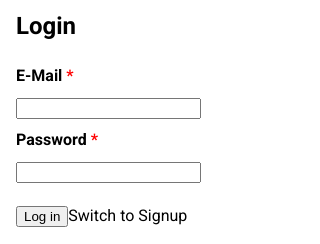
Test: <Authentication /> › Behaviour tests › Authentication flow › toggles between login and signup modes when switch button is clicked
Expected: the button "Log in" is shown, left=16, top=206, right=68, bottom=227
Step 1. Click the link with test id "login-signup-toggle-link" → (128, 215), box left=68, top=206, right=187, bottom=225
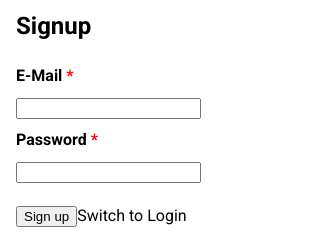
Result: the button "Sign up" is shown at left=16, top=206, right=77, bottom=227
Step 2. Click the link with test id "login-signup-toggle-link" → (132, 215), box left=77, top=206, right=187, bottom=225
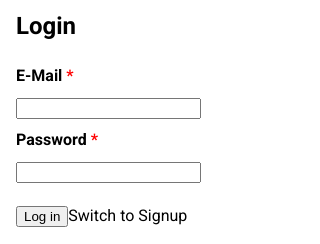
Result: the button "Log in" is shown at left=16, top=206, right=68, bottom=227
